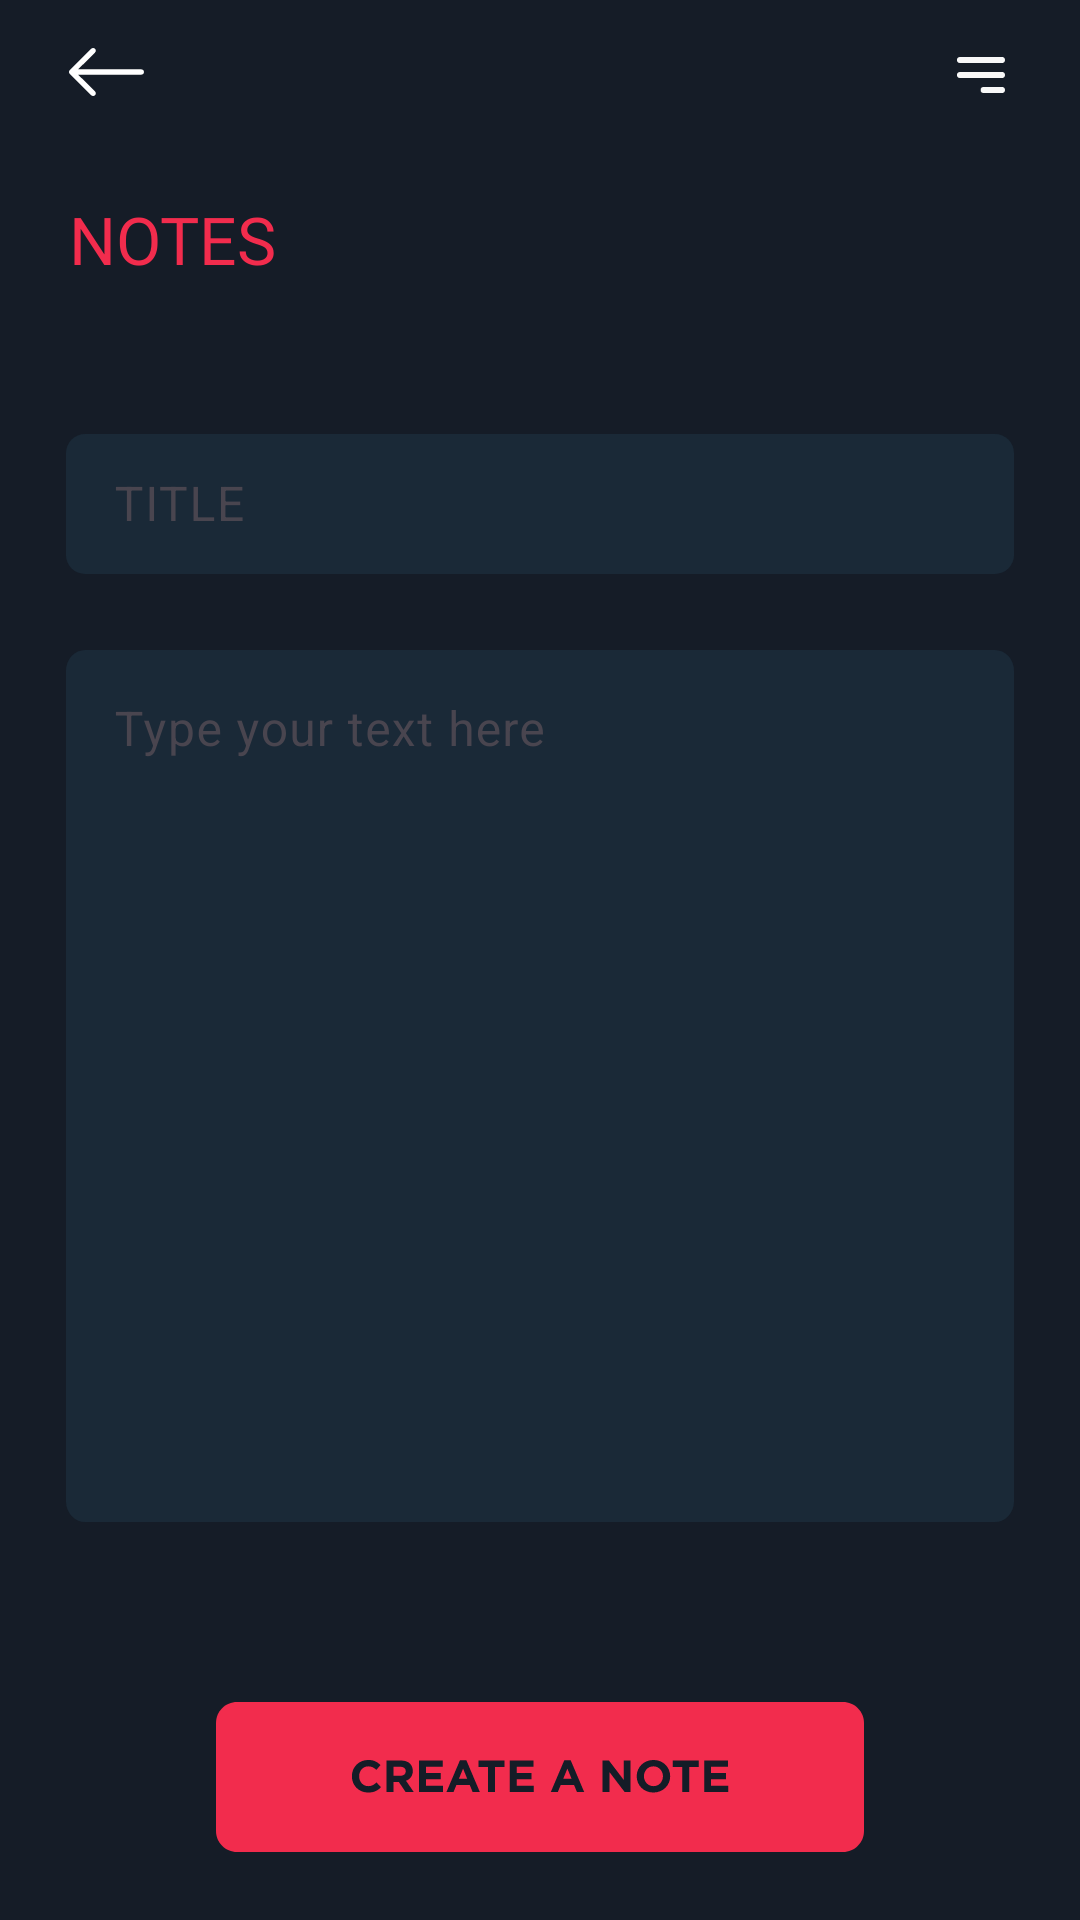

Where icons sit on this 1080*1920 app screen, as {"left": x1, "top": y1, "right": x2, "bottom": y2}:
back: {"left": 69, "top": 48, "right": 144, "bottom": 96}
